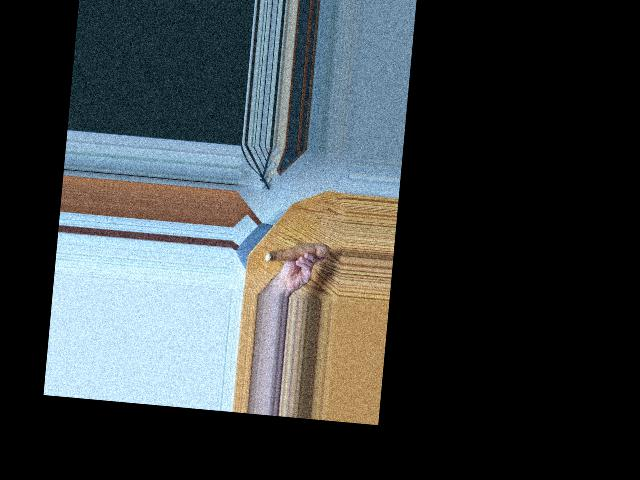sweet_potato: (267, 235, 327, 269)
